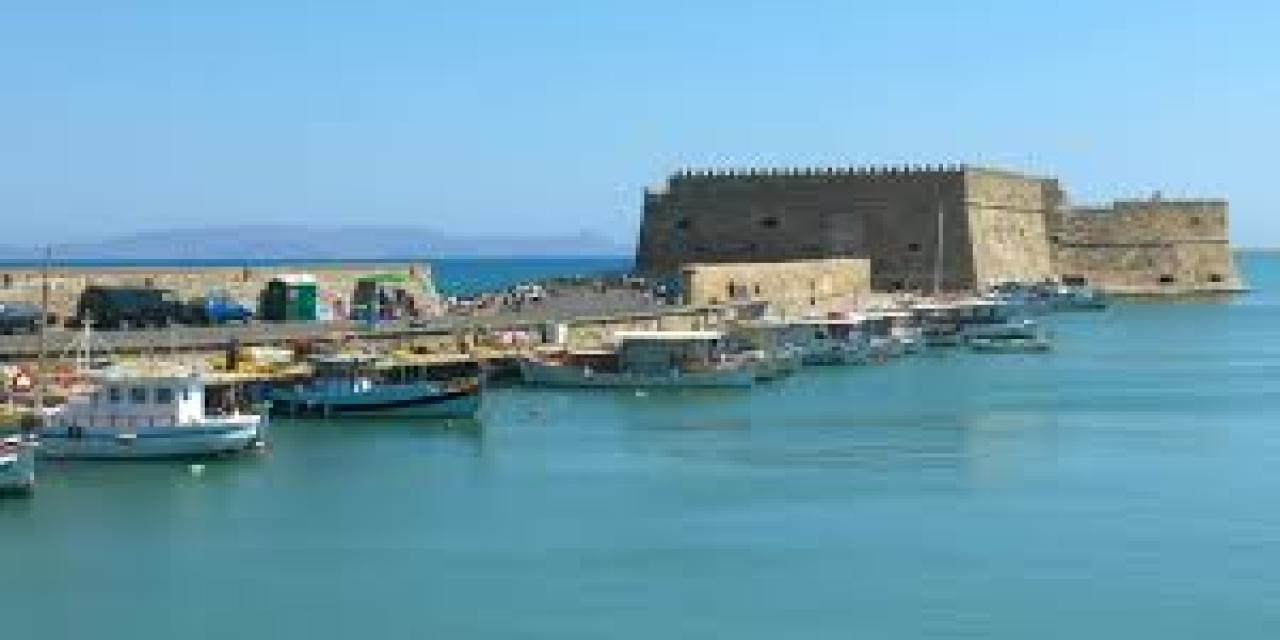Kules: (632, 158, 1255, 304)
